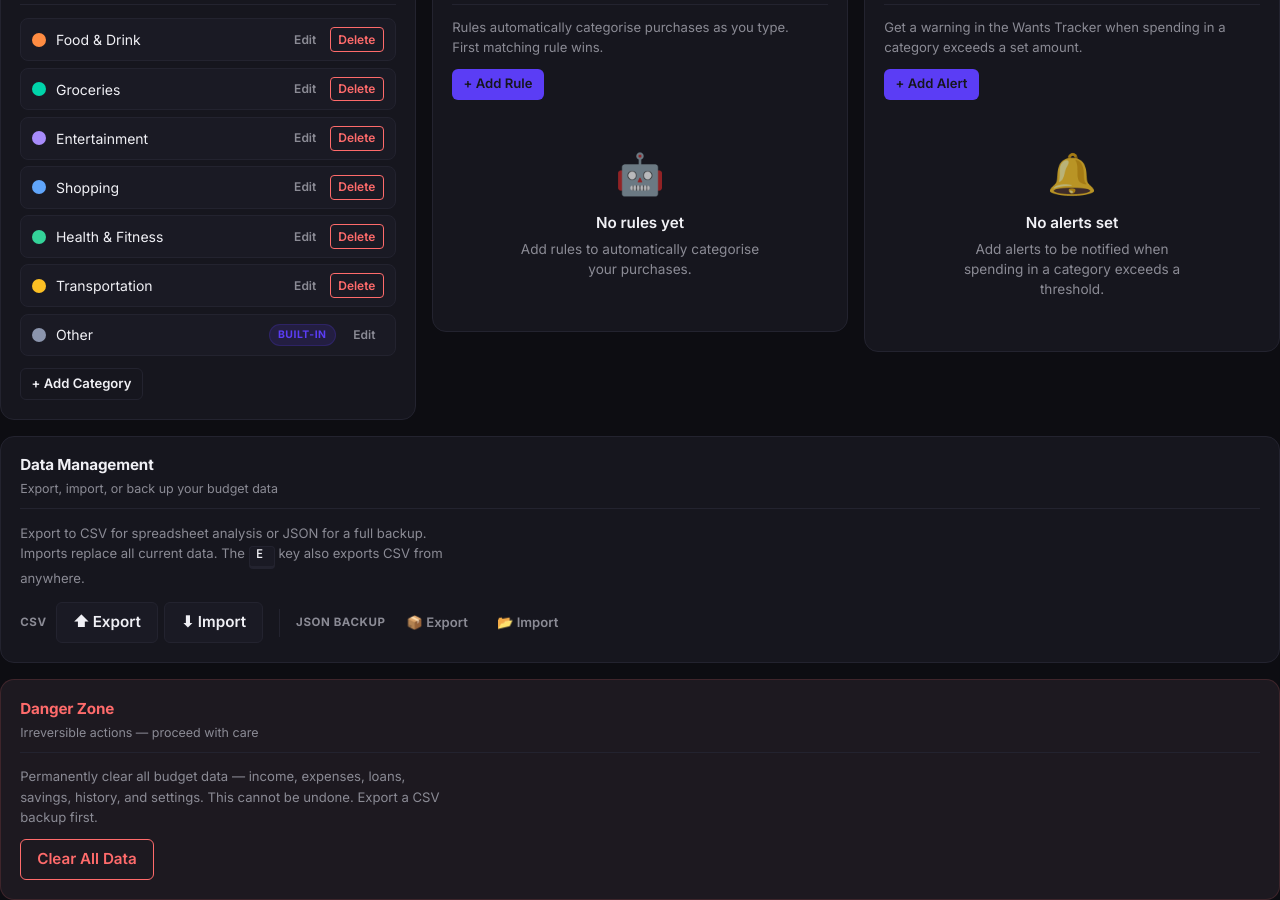
SettingsPage › first click shows confirmation message instead of clearing
(page scrolled)
Click the button "Clear All Data" at (87, 860), box [20,839,154,880]
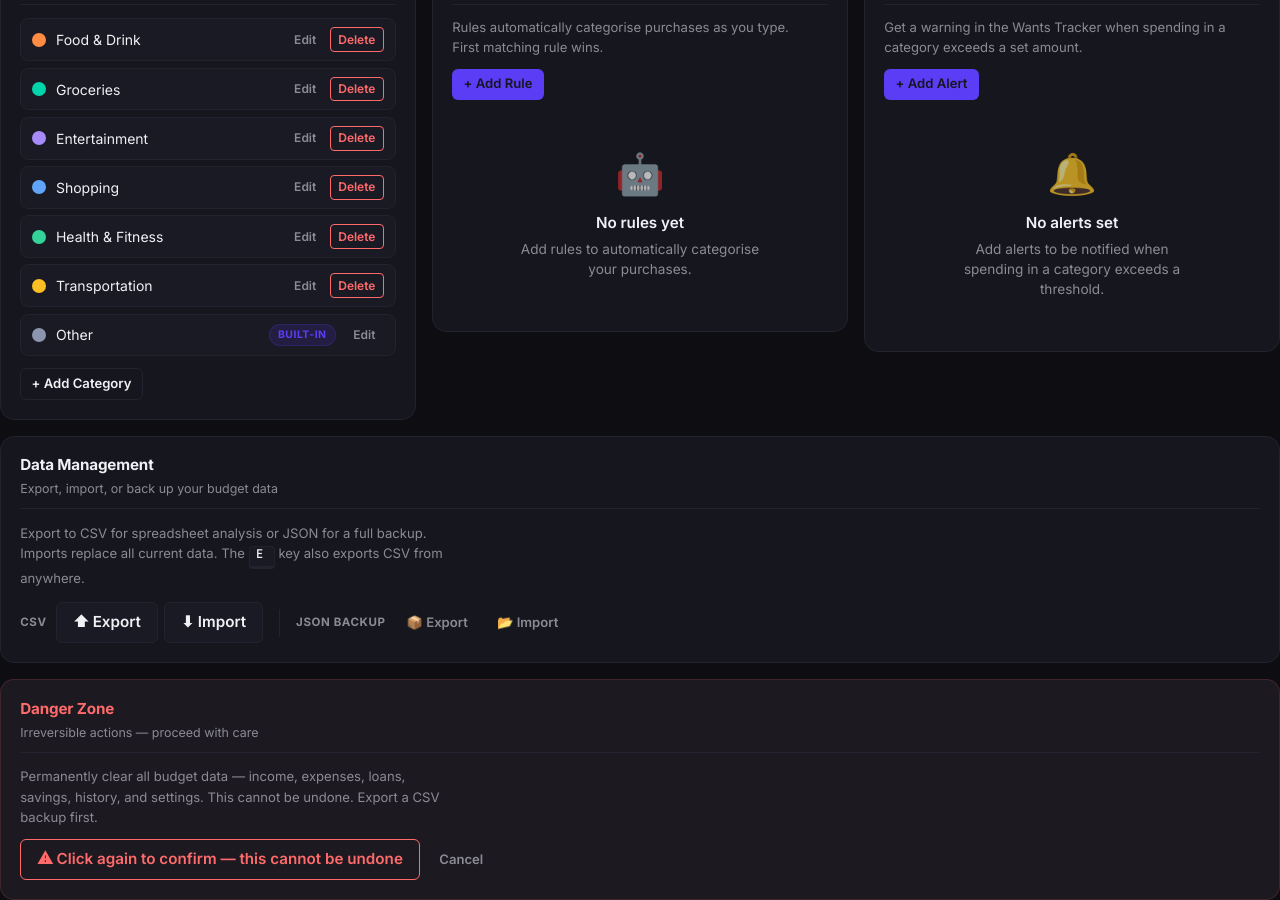
Result: the button "⚠ Click again to confirm — this cannot be undone" is shown at [20,839,420,880]
